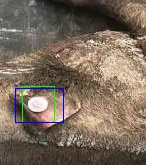text: (22, 86, 54, 122)
